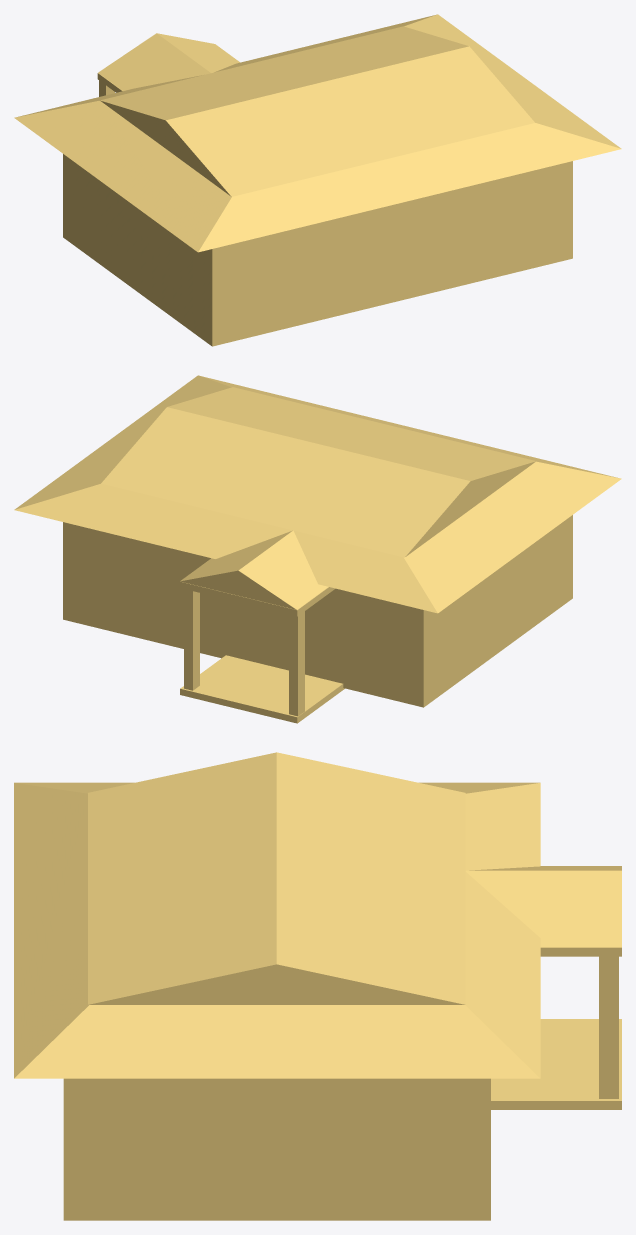
Rendered from CAGNav.glb.
The picture shows the model from 3 angles, top to bottom: view 1: azimuth 30°, elevation 25°; view 2: azimuth 150°, elevation 25°; view 3: azimuth 270°, elevation 25°; orthographic projection. The views are drawn at different scales.
Parts seen in each view (by area): view 1: Cube.001; view 2: Cube.001; view 3: Cube.001.
Part boxes in pixels (left/top/right/bottom): Cube.001: left=14, top=14, right=621, bottom=346; Cube.001: left=14, top=375, right=621, bottom=723; Cube.001: left=14, top=752, right=621, bottom=1220.
Size of the model in its own units: 14.1 by 5.31 by 12.24.
